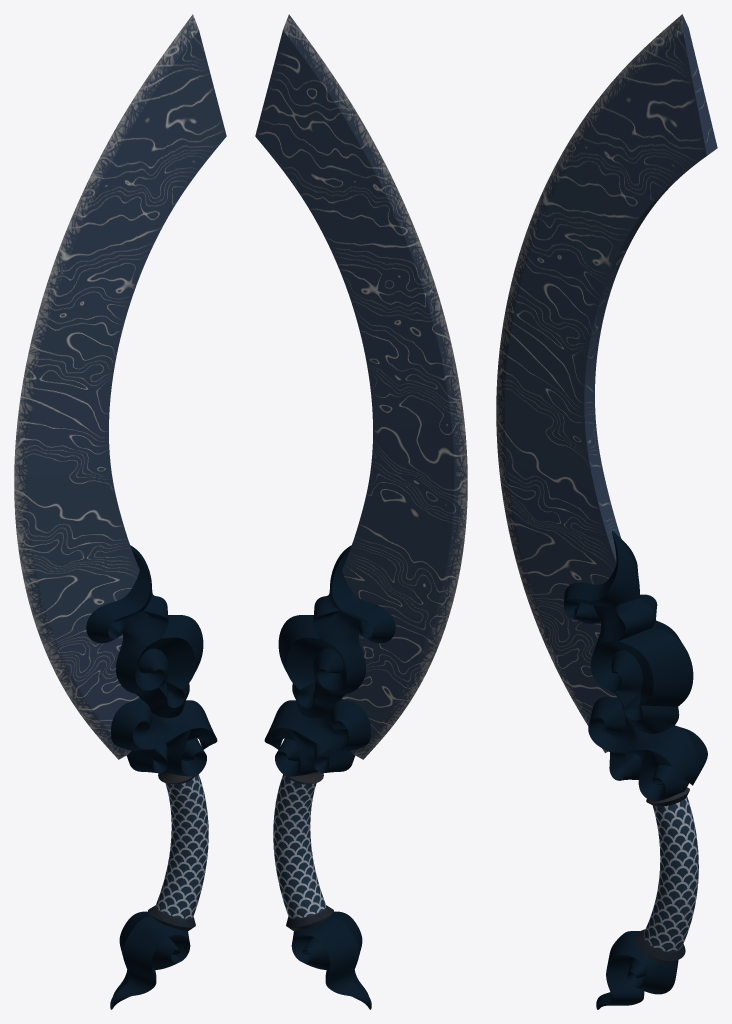
Rendered from A_Nautilia.fbx.
The picture shows the model from 3 angles, left to right: view 1: azimuth 30°, elevation 25°; view 2: azimuth 150°, elevation 25°; view 3: azimuth 330°, elevation 25°; orthographic projection. The views are drawn at different scales.
Parts seen in each view (by area): view 1: Nautilia; view 2: Nautilia; view 3: Nautilia.
Boxes of the visible parts, left/top/right/bottom form: Nautilia: left=14, top=14, right=226, bottom=1009; Nautilia: left=255, top=14, right=467, bottom=1009; Nautilia: left=496, top=14, right=717, bottom=1009.
Bounding box in the file's own units: 37.28 × 168 × 9.95.
Materials: 1 (1 with a texture image).
